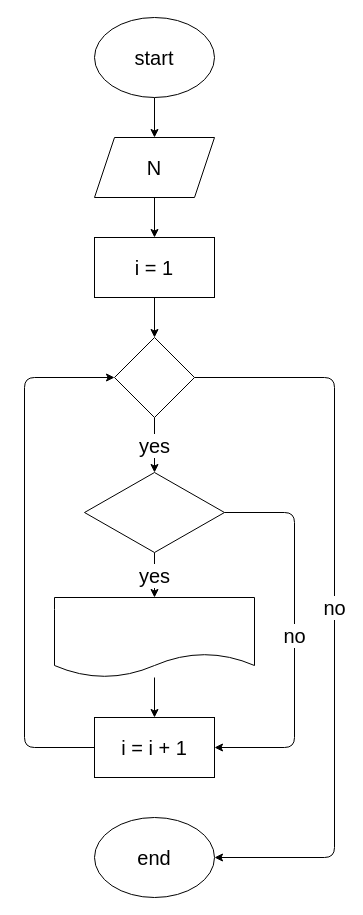
This 363x915 diagram has some shape labels left out. Here are the shapes that lost their labels. From the top down, the box of each, then its label:
(114, 336, 194, 418): i < N
(84, 472, 224, 552): i % 2 == 0
(54, 596, 254, 678): Console.WriteLine(i)
